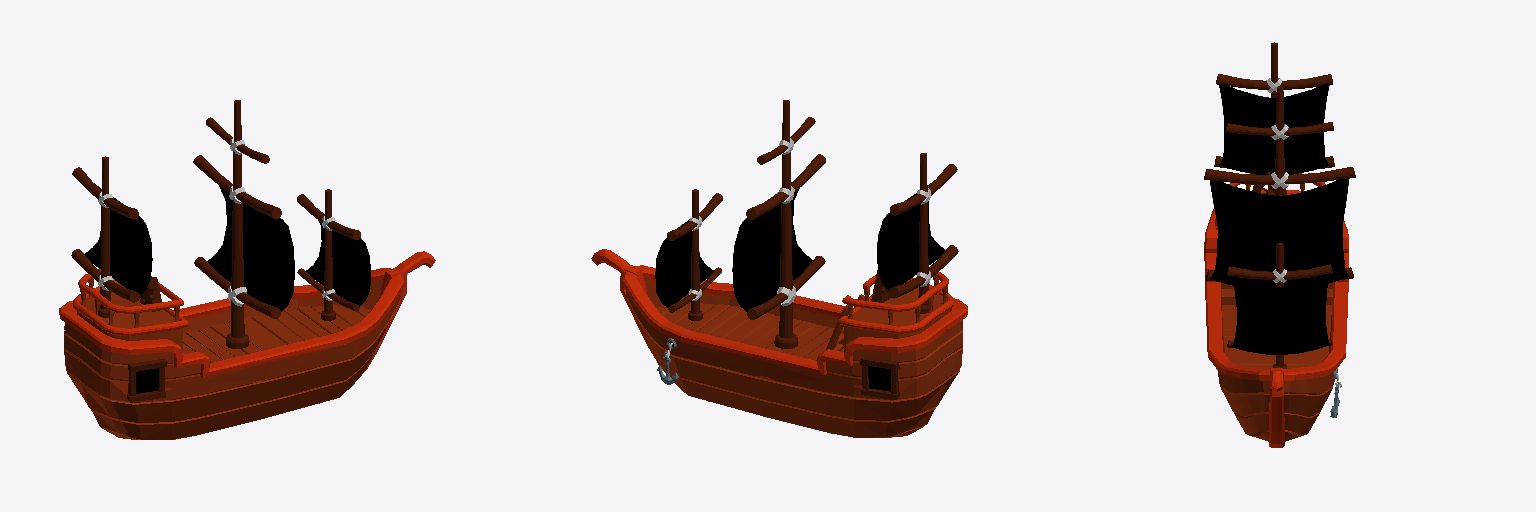
The model's file is Pirate_Boat.obj.
3 renders of one model, left to right at view 1: azimuth 30°, elevation 25°; view 2: azimuth 150°, elevation 25°; view 3: azimuth 270°, elevation 25°, orthographic.
Visible parts, largest first — view 1: Pirate_Boat; view 2: Pirate_Boat; view 3: Pirate_Boat.
Boxes of the visible parts, x1,y1,x2,y2 form: Pirate_Boat: [59, 100, 435, 439]; Pirate_Boat: [591, 100, 967, 437]; Pirate_Boat: [1204, 42, 1355, 447].
Bounding box in the file's own units: 17.74 × 15.19 × 6.56.